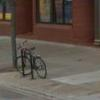Bicycle: (10, 39, 55, 86)
